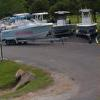Boat: (0, 5, 57, 51)
